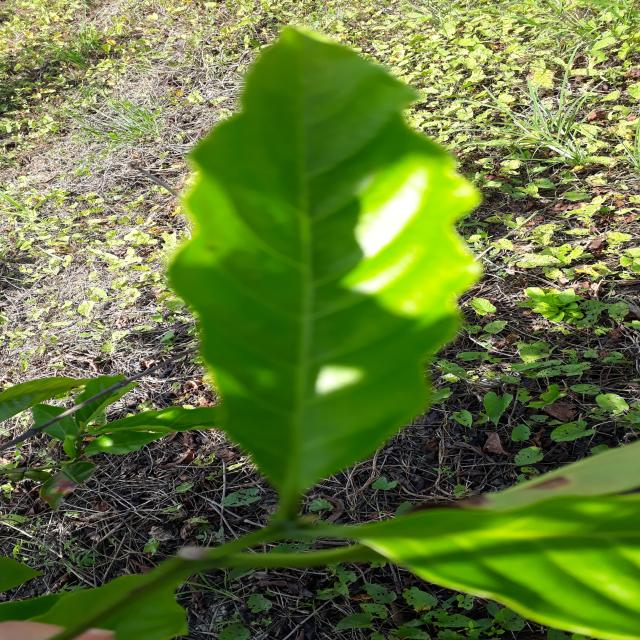Sanas: (166, 26, 484, 526)
